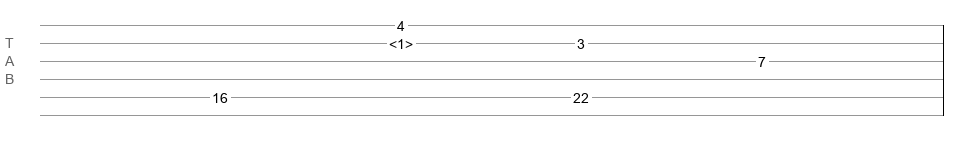16: (212, 90, 228, 100)
22: (573, 90, 589, 100)
3: (577, 36, 585, 46)
4: (397, 18, 405, 28)
7: (758, 54, 766, 64)
harmonic: (389, 36, 413, 46)
